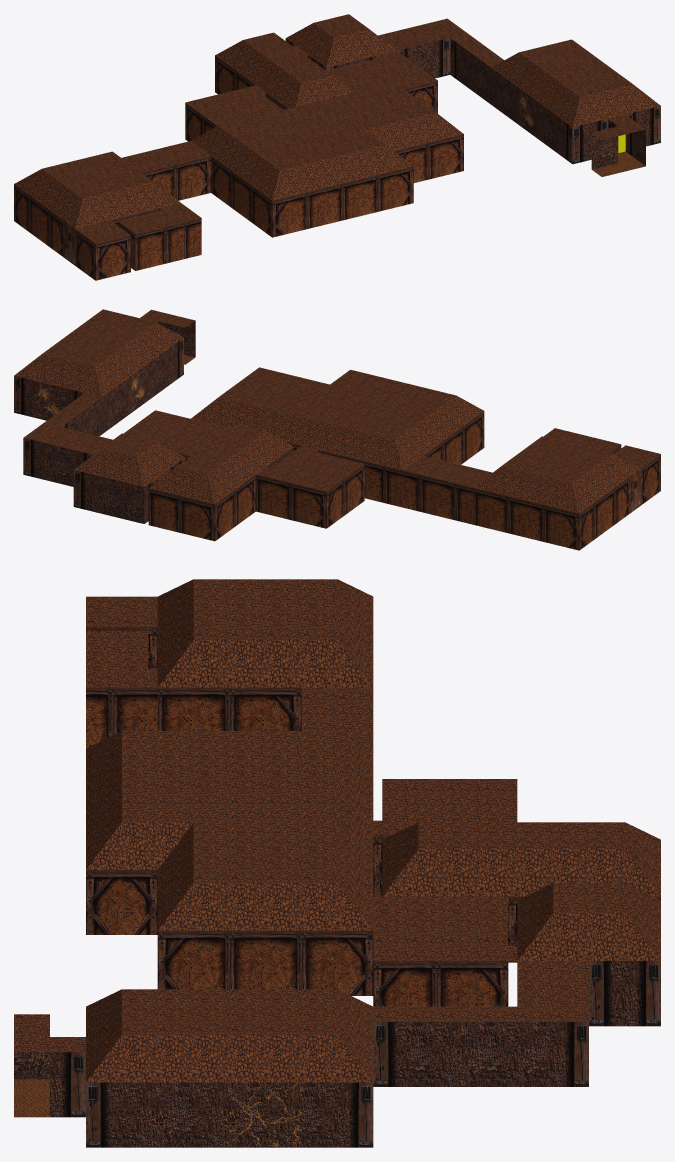
Rendered from zddb06.blv 1.obj.
3 views of the same model, one above another, from view 1: azimuth 30°, elevation 25°; view 2: azimuth 150°, elevation 25°; view 3: azimuth 270°, elevation 25° (orthographic). The views are drawn at different scales.
Parts seen in each view (by area): view 1: Room1, Room2, Room9, Room10, Room8, Room5, Room6, Room3, Room4, Room11, Room7; view 2: Room1, Room2, Room9, Room8, Room10, Room3, Room6, Room7, Room4, Room11, Room5; view 3: Room1, Room9, Room2, Room10, Room8, Room6, Room7, Room5, Room3, Room11, Room4.
Part boxes in pixels (bbox=[...]): Room1: bbox=[191, 82, 463, 237]; Room2: bbox=[14, 141, 210, 265]; Room9: bbox=[491, 39, 660, 164]; Room10: bbox=[285, 14, 467, 78]; Room8: bbox=[215, 32, 353, 109]; Room5: bbox=[117, 203, 201, 270]; Room6: bbox=[326, 51, 437, 113]; Room3: bbox=[185, 85, 282, 141]; Room4: bbox=[75, 220, 130, 280]; Room11: bbox=[591, 114, 645, 176]; Room7: bbox=[450, 33, 503, 104]; Room1: bbox=[191, 367, 484, 507]; Room2: bbox=[402, 436, 640, 550]; Room9: bbox=[14, 309, 183, 433]; Room8: bbox=[148, 424, 293, 541]; Room10: bbox=[23, 423, 185, 523]; Room3: bbox=[256, 446, 364, 528]; Room6: bbox=[123, 410, 228, 459]; Room7: bbox=[44, 393, 102, 436]; Room4: bbox=[614, 445, 660, 505]; Room11: bbox=[140, 309, 195, 364]; Room5: bbox=[544, 428, 621, 453]; Room1: bbox=[86, 731, 373, 995]; Room9: bbox=[86, 989, 373, 1147]; Room2: bbox=[157, 579, 373, 747]; Room10: bbox=[517, 883, 660, 1086]; Room8: bbox=[382, 822, 660, 945]; Room6: bbox=[373, 896, 517, 1006]; Room7: bbox=[373, 1006, 517, 1086]; Room5: bbox=[86, 630, 157, 748]; Room3: bbox=[373, 779, 517, 896]; Room11: bbox=[14, 1014, 85, 1117]; Room4: bbox=[86, 596, 157, 668].
Bounding box in the file's own units: 4096 × 384 × 2304.
Materials: 21 (21 with a texture image).
